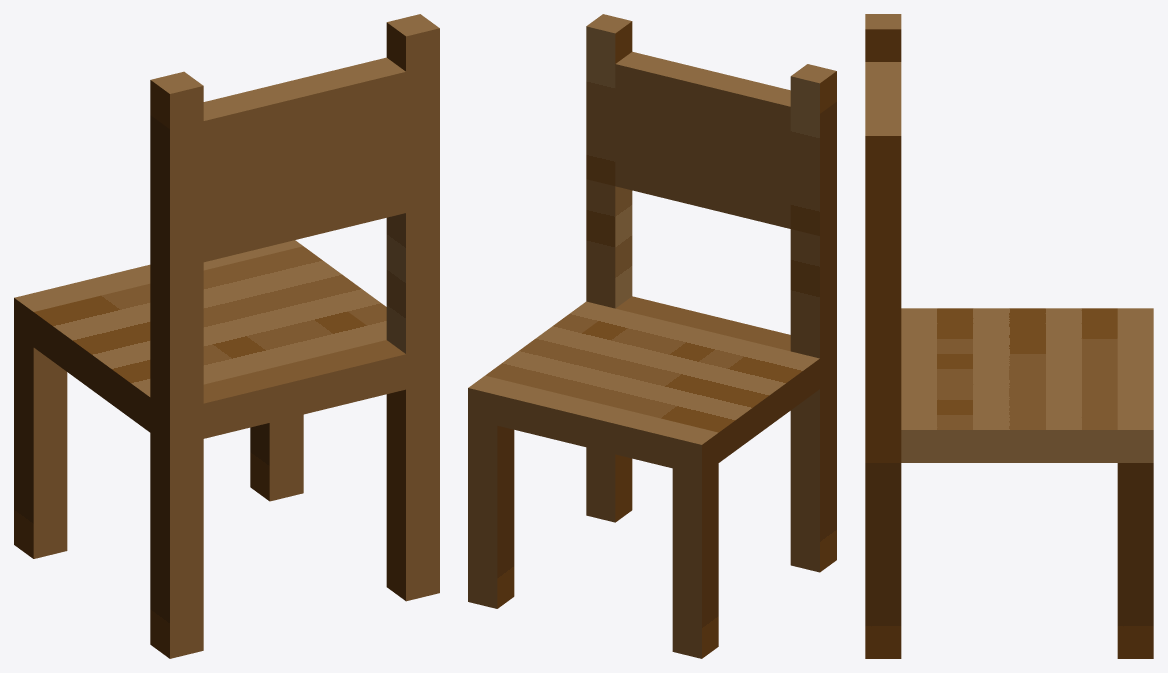
Rendered from chair_873x01.obj.
The picture shows the model from 3 angles, left to right: view 1: azimuth 30°, elevation 25°; view 2: azimuth 150°, elevation 25°; view 3: azimuth 270°, elevation 25°; orthographic projection. The views are drawn at different scales.
Parts seen in each view (by area): view 1: cube; view 2: cube; view 3: cube.
Part boxes in pixels (box(x1,y1,x2,y2)): cube: box(14, 14, 439, 658); cube: box(468, 14, 836, 658); cube: box(865, 14, 1153, 658).
Size of the model in its own units: 0.5 by 1 by 0.5.
